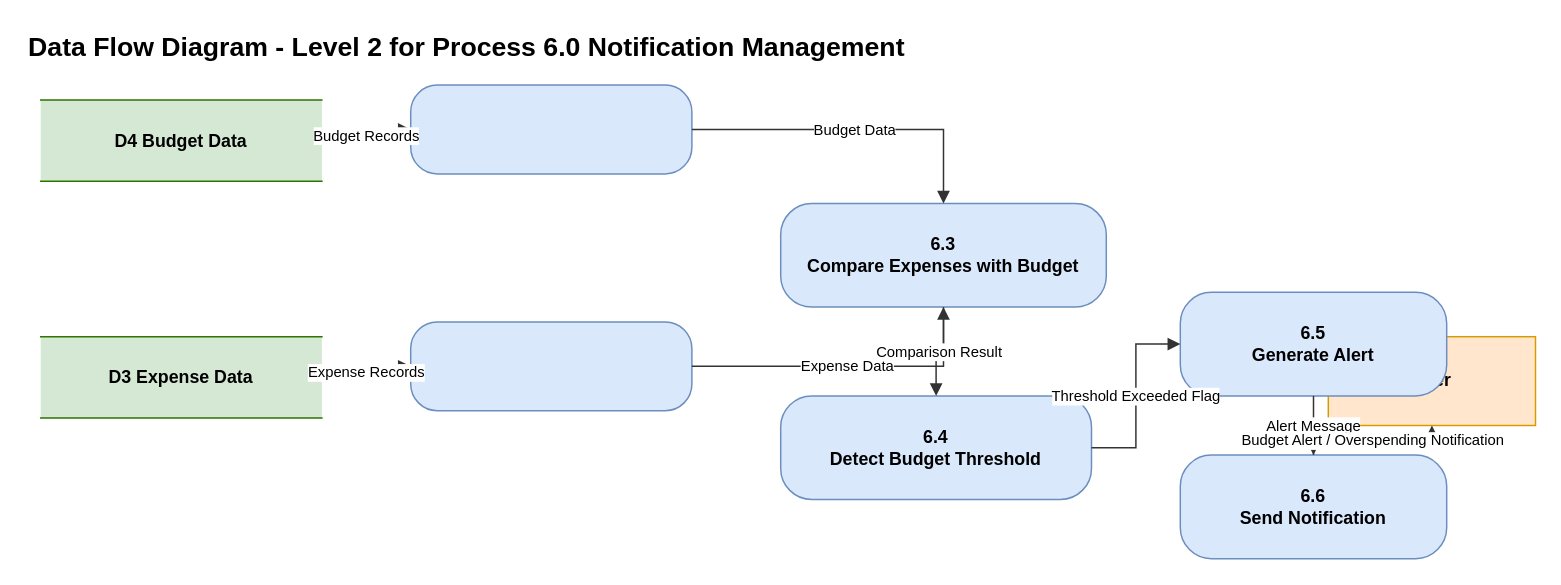
Image size: 1561x585. Some labels were removed from this diagram. Each missing label, with the box of its shape:
6.1 Retrieve Budget Data: (409, 84, 692, 174)
6.2 Retrieve Expense Data: (409, 320, 692, 411)
